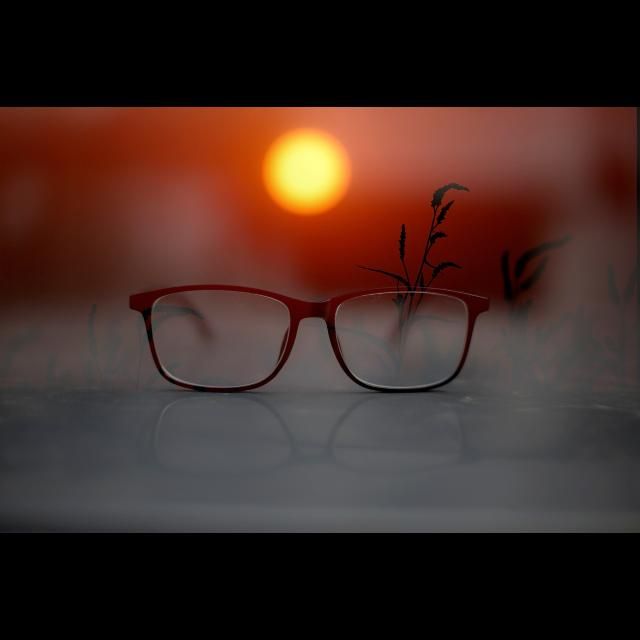glasses: (132, 282, 492, 394)
